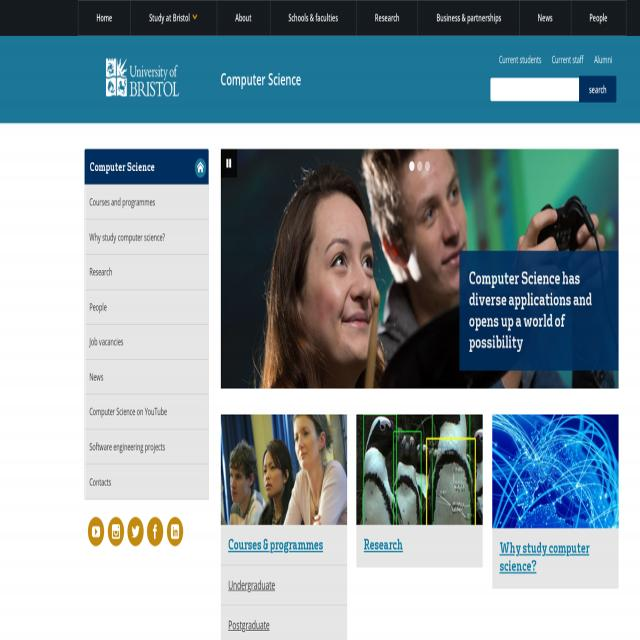button: (221, 149, 610, 392), (221, 414, 347, 525), (357, 415, 483, 526), (492, 414, 610, 528), (97, 46, 184, 113), (85, 464, 209, 500), (85, 185, 209, 220), (85, 255, 209, 290), (85, 290, 209, 325), (85, 325, 209, 360), (85, 395, 209, 430), (85, 430, 209, 465), (85, 150, 209, 184), (85, 220, 209, 254), (85, 360, 209, 394), (418, 1, 520, 36), (131, 1, 217, 36), (270, 1, 356, 36), (356, 1, 418, 36), (217, 1, 270, 36), (78, 0, 130, 35), (571, 1, 626, 34), (520, 1, 570, 36), (579, 76, 617, 102), (88, 517, 104, 547), (108, 517, 124, 547), (128, 517, 144, 547), (147, 517, 163, 547), (167, 517, 183, 547), (223, 152, 235, 175)
field: (490, 77, 580, 102)
